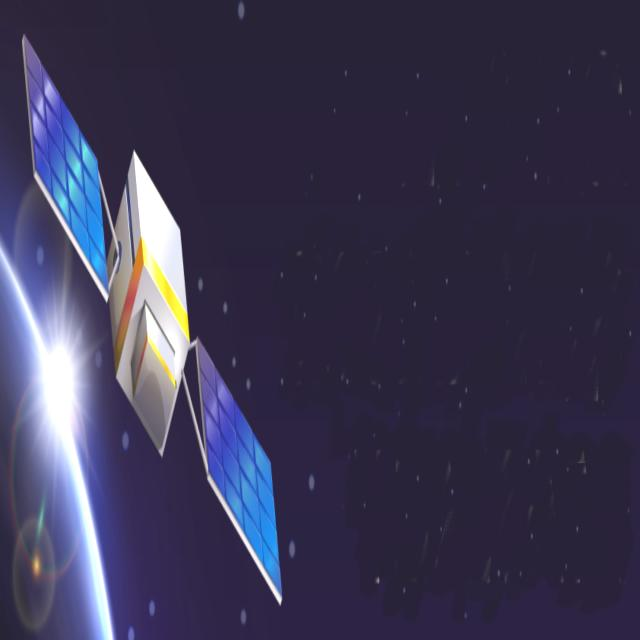medium_debris: (14, 39, 287, 613)
